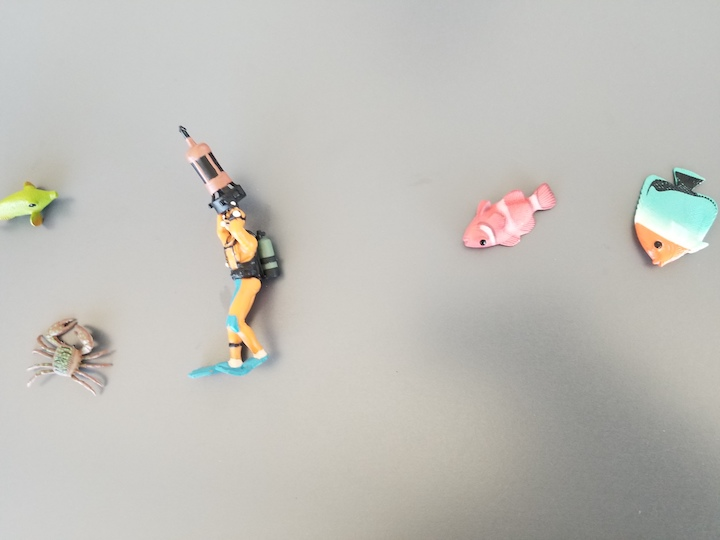crab: (24, 318, 116, 396)
diver: (175, 124, 291, 382)
fish: (631, 163, 720, 268), (461, 180, 560, 252), (1, 178, 60, 233)
